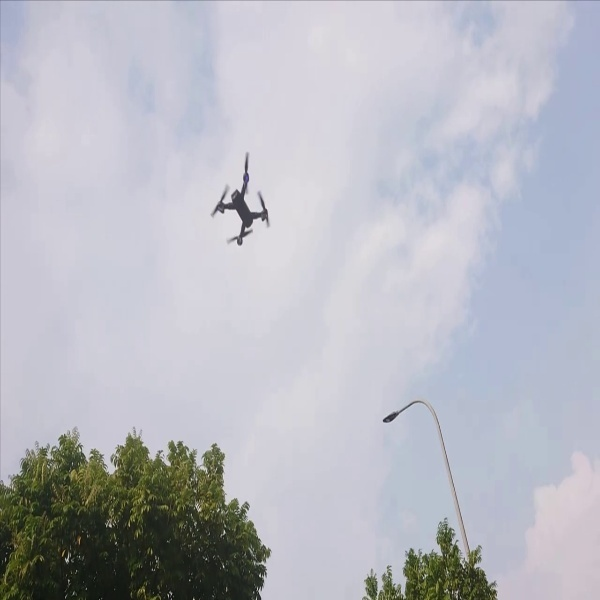drone: (194, 146, 279, 251)
